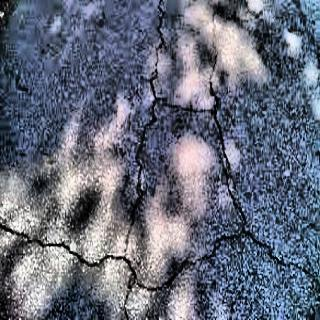crack: (1, 217, 166, 313), (190, 4, 248, 256), (127, 0, 172, 216), (3, 55, 48, 120), (168, 246, 202, 287)
